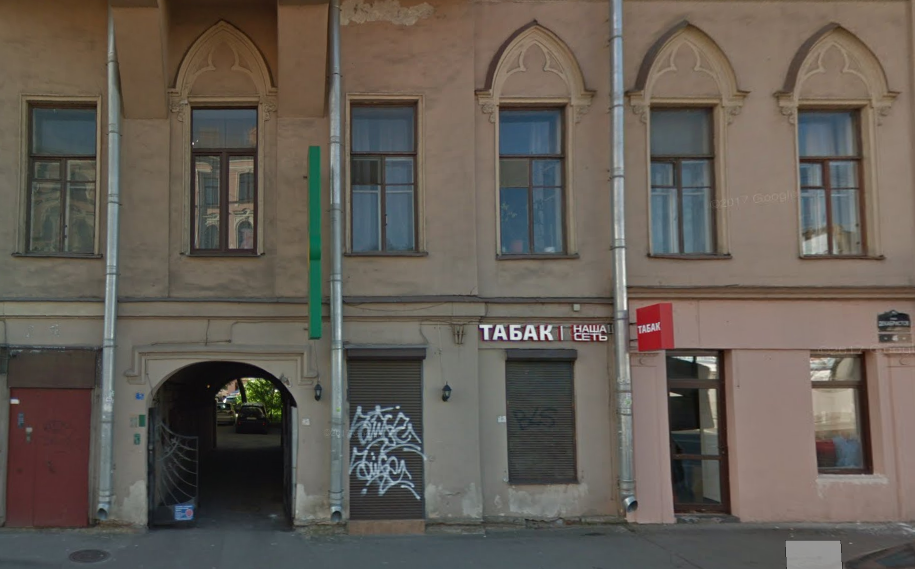arch: (137, 356, 304, 532)
cantilever: (294, 139, 335, 340), (627, 300, 675, 356)
door: (343, 351, 428, 529), (6, 388, 90, 532), (668, 346, 730, 507)
signboard: (477, 308, 613, 348)
window: (349, 98, 426, 259), (495, 100, 569, 258), (188, 100, 261, 252), (24, 101, 95, 256), (506, 345, 582, 487), (648, 101, 717, 255), (799, 106, 860, 256), (808, 353, 873, 470)
